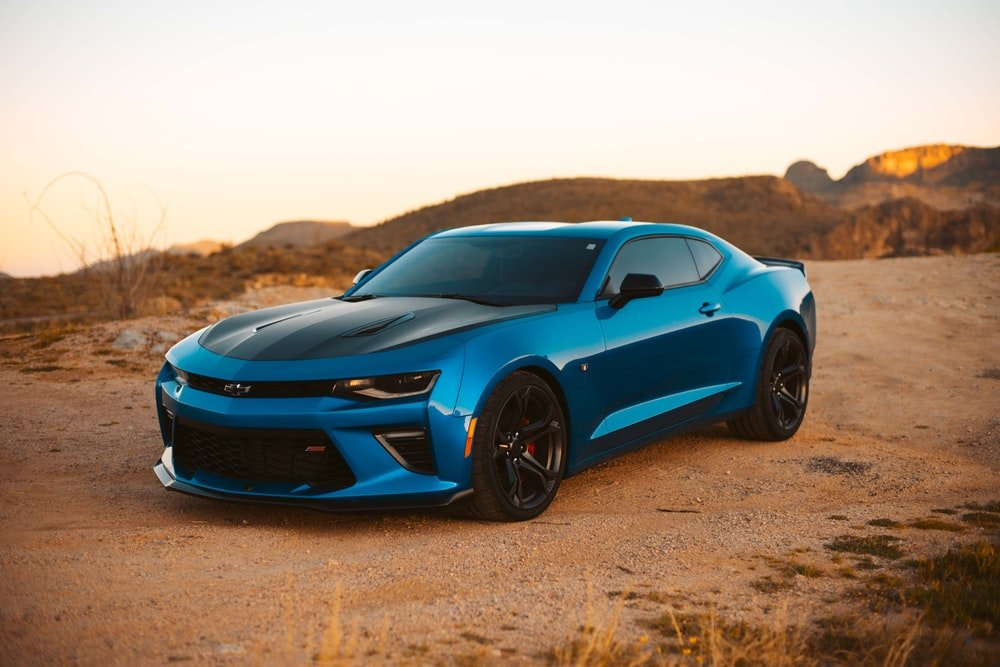mobil: (144, 217, 826, 529)
